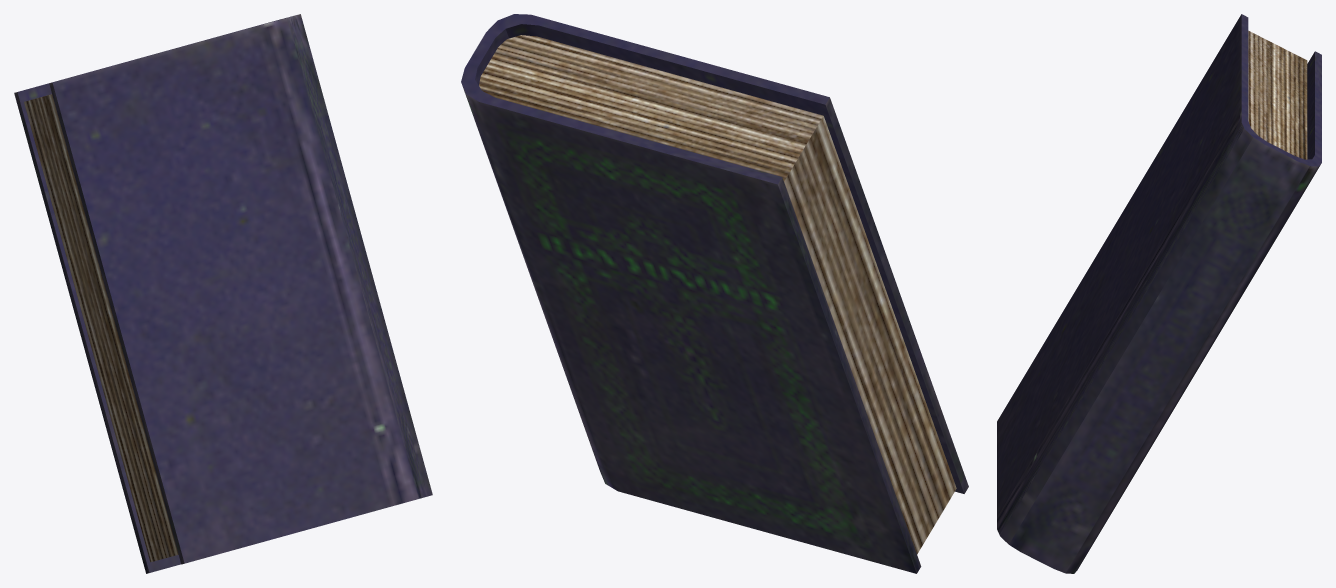
File: purple_book.fbx
3 renders of one model, left to right at view 1: azimuth 30°, elevation 25°; view 2: azimuth 150°, elevation 25°; view 3: azimuth 270°, elevation 25°, orthographic. The views are drawn at different scales.
Visible parts, largest first — view 1: pCube27, pCube28; view 2: pCube27, pCube28; view 3: pCube27, pCube28.
Boxes of the visible parts, x1=… form: pCube27: x1=14, y1=14, x2=432, y2=573; pCube28: x1=24, y1=94, x2=178, y2=562; pCube27: x1=461, y1=14, x2=968, y2=573; pCube28: x1=479, y1=35, x2=956, y2=554; pCube27: x1=997, y1=14, x2=1321, y2=573; pCube28: x1=1248, y1=30, x2=1307, y2=159.
Size of the model in its own units: 0.6313 by 0.9914 by 0.6494.
Materials: 2 (2 with a texture image).
